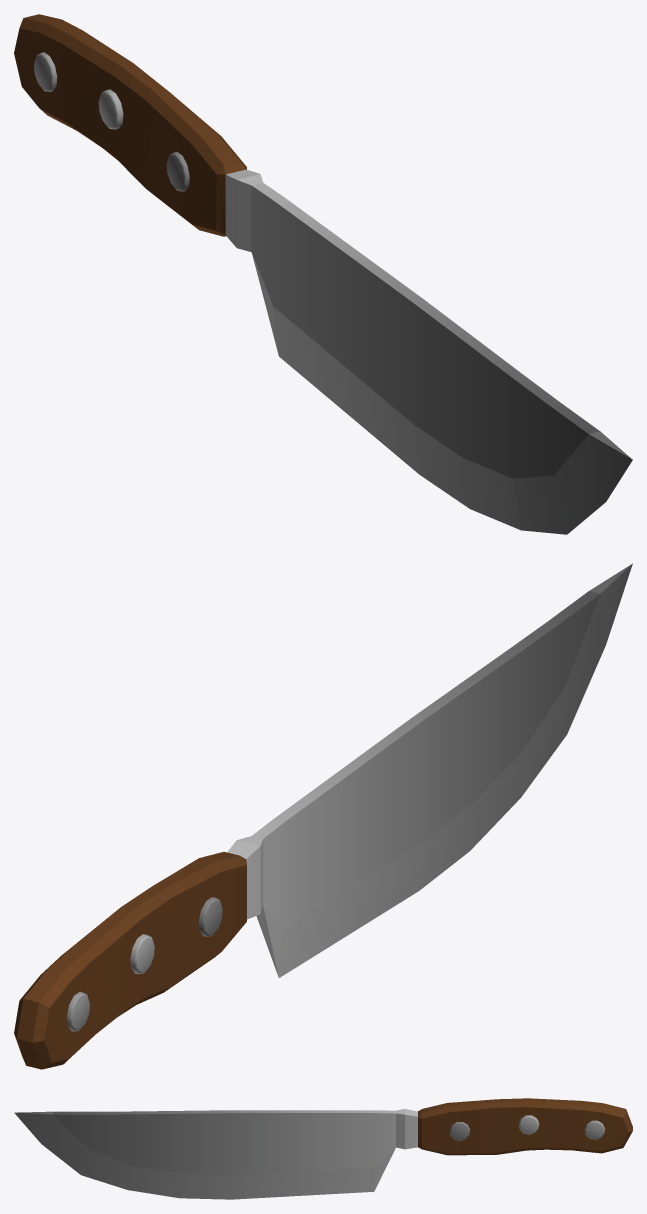
The model's file is Knife_Var1.fbx.
The picture shows the model from 3 angles, top to bottom: view 1: azimuth 30°, elevation 25°; view 2: azimuth 150°, elevation 25°; view 3: azimuth 270°, elevation 25°; orthographic projection. The views are drawn at different scales.
Parts seen in each view (by area): view 1: Knife_var1; view 2: Knife_var1; view 3: Knife_var1.
Boxes of the visible parts, bbox=[...] form: Knife_var1: bbox=[14, 14, 632, 534]; Knife_var1: bbox=[14, 563, 632, 1069]; Knife_var1: bbox=[14, 1098, 632, 1199].
Size of the model in its own units: 2.15 by 10.4 by 58.46.
1 material, 1 textured.
